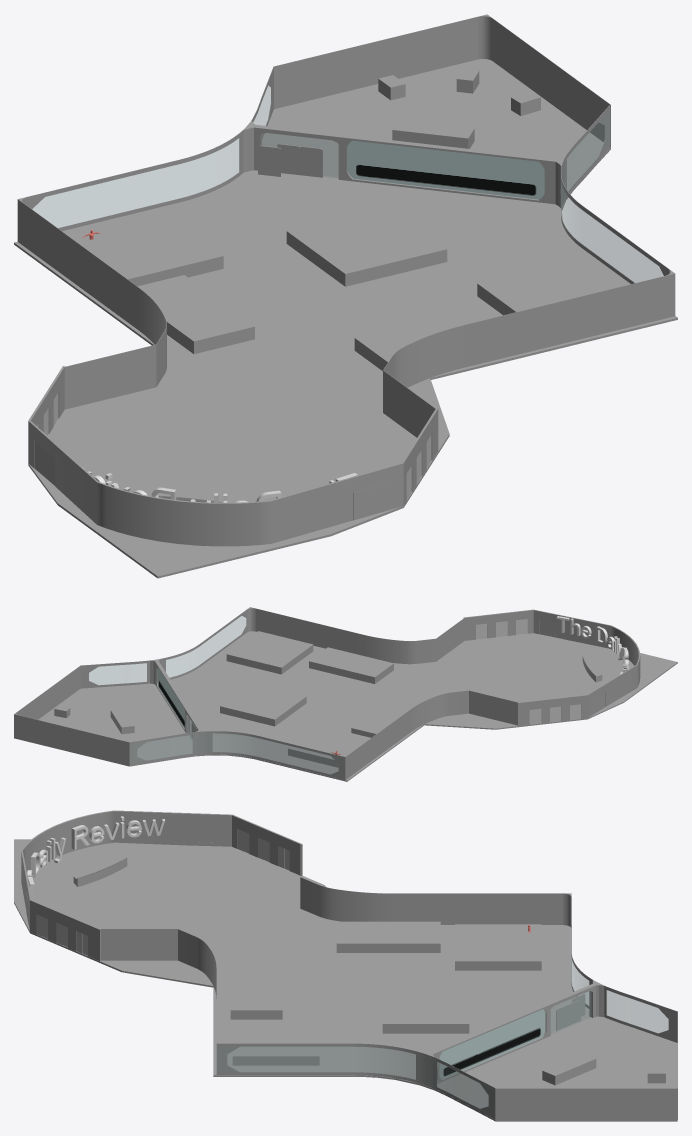
Rendered from The Daily Review Building.fbx.
3 views of the same model, one above another, from view 1: azimuth 30°, elevation 25°; view 2: azimuth 150°, elevation 25°; view 3: azimuth 270°, elevation 25° (orthographic). The views are drawn at different scales.
Visible parts, largest first — view 1: Floor, pCube47, pCube32, Wall, pCube28, pCube20, pCube10, pCube33, pCube16, pCube35, pCube8, pCube30 (+13 smaller); view 2: Floor, pCube32, pCube10, pCube33, pCube47, Wall, pCube30, pCube17, pCube28, pCube9, pCube29, pCube16 (+13 smaller); view 3: Floor, pCube33, pCube30, pCube8, pCube47, pCube28, pCube16, pCube17, pCube35, pCube31, pCube20, pCube29 (+12 smaller).
Part boxes in pixels (x1,y1,x2,y2): Floor: (14,59,677,578); pCube47: (28,420,403,546); pCube32: (383,273,675,387); Wall: (274,14,486,108); pCube28: (286,206,447,286); pCube20: (347,140,544,199); pCube10: (32,85,270,227); pCube33: (17,199,166,386); pCube16: (69,213,223,286); pCube35: (137,275,254,353); pCube8: (488,15,610,147); pCube30: (561,110,663,282); Floor: (14,631,677,781); pCube32: (254,608,436,664); pCube10: (130,733,344,777); pCube33: (345,690,468,779); pCube47: (533,609,640,717); Wall: (14,714,129,765); pCube30: (89,616,245,684); pCube17: (226,631,313,674); pCube28: (220,683,306,726); pCube9: (129,731,345,779); pCube29: (309,647,393,683); pCube16: (288,725,370,767); Floor: (14,839,677,1121); pCube33: (300,877,571,924); pCube30: (217,1046,494,1116); pCube8: (495,1088,677,1119); pCube47: (21,810,232,930); pCube28: (382,987,469,1033); pCube16: (455,924,541,970); pCube17: (232,1019,319,1065); pCube35: (336,921,440,952); pCube31: (216,1043,495,1119); pCube20: (439,1009,545,1079); pCube29: (230,966,282,1019).
Bounding box in the file's own units: 383 × 21 × 383.
Materials: 6 (1 with a texture image).
